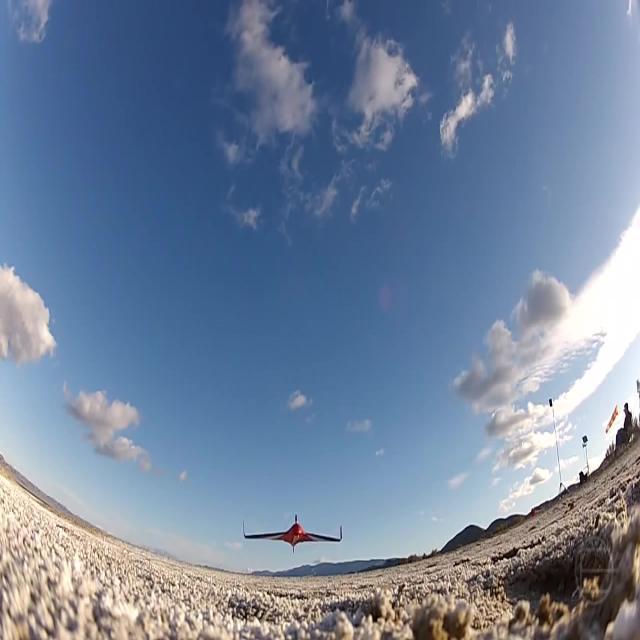iha: (272, 512, 313, 553)
